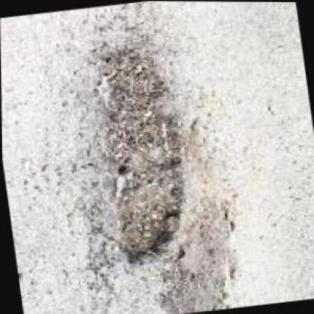Hueco: (88, 41, 203, 268)
